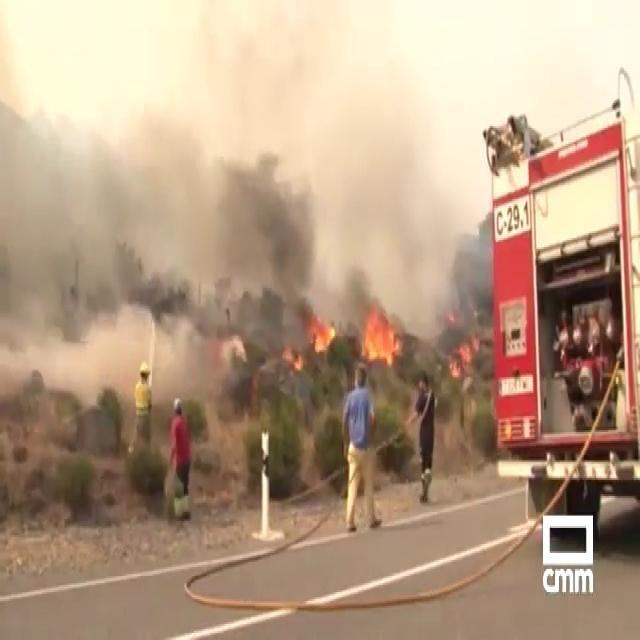Fire: (360, 305, 402, 371), (308, 309, 340, 363)
Smoke: (1, 0, 492, 382)
